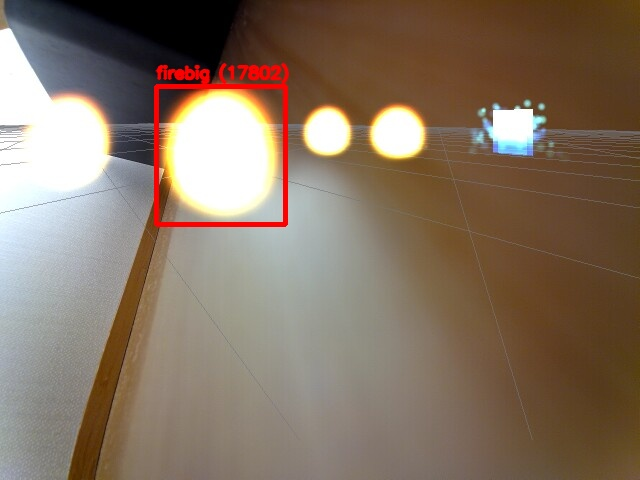firebig: (156, 86, 285, 224)
